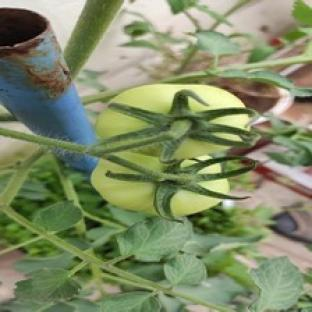Tomato: (97, 84, 250, 158), (91, 159, 221, 217)
